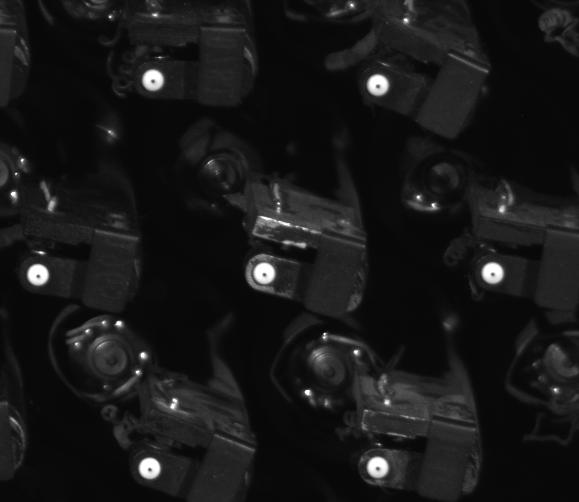fiber: (356, 65, 397, 103), (130, 453, 174, 485), (363, 449, 400, 486), (20, 257, 56, 294), (137, 60, 171, 96), (249, 259, 284, 292), (479, 256, 509, 293)
